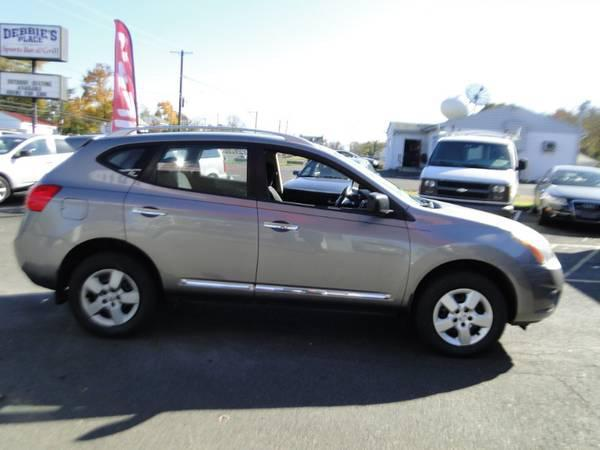Front_Bumper: (507, 262, 567, 327)
Front_Fender: (402, 207, 544, 305)
Front_Right_Door: (255, 202, 412, 306)
Front_Right_Window: (257, 143, 410, 221)
Rear_Bumper: (15, 232, 78, 292)
Rear_Fender: (23, 139, 164, 239)
Rear_Right_Door: (122, 180, 256, 291)
Rear_Right_Window: (137, 141, 256, 201)
Right_Headlight: (514, 233, 560, 267)
Right_Taillight: (23, 182, 59, 213)
Roof: (63, 130, 414, 216)
Wheel: (421, 269, 512, 353), (68, 252, 151, 337)
